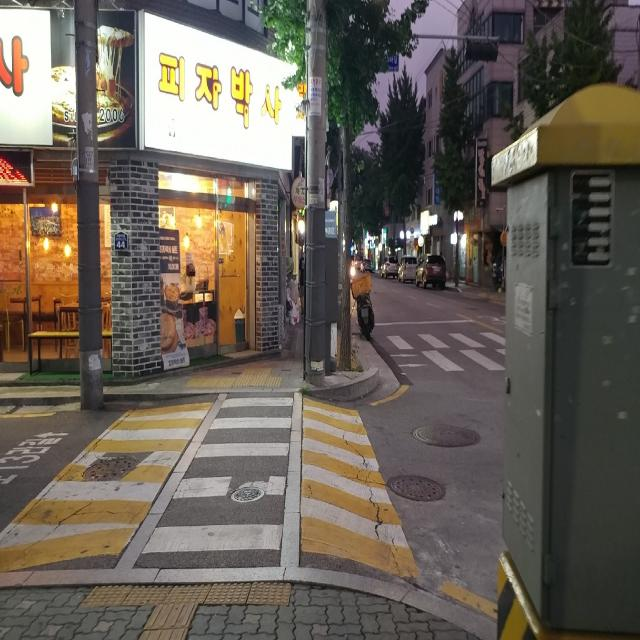횡단보도: (140, 395, 295, 557), (386, 326, 509, 371)
